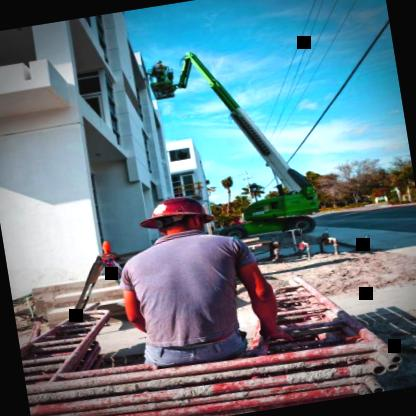helmet: (134, 186, 222, 248)
